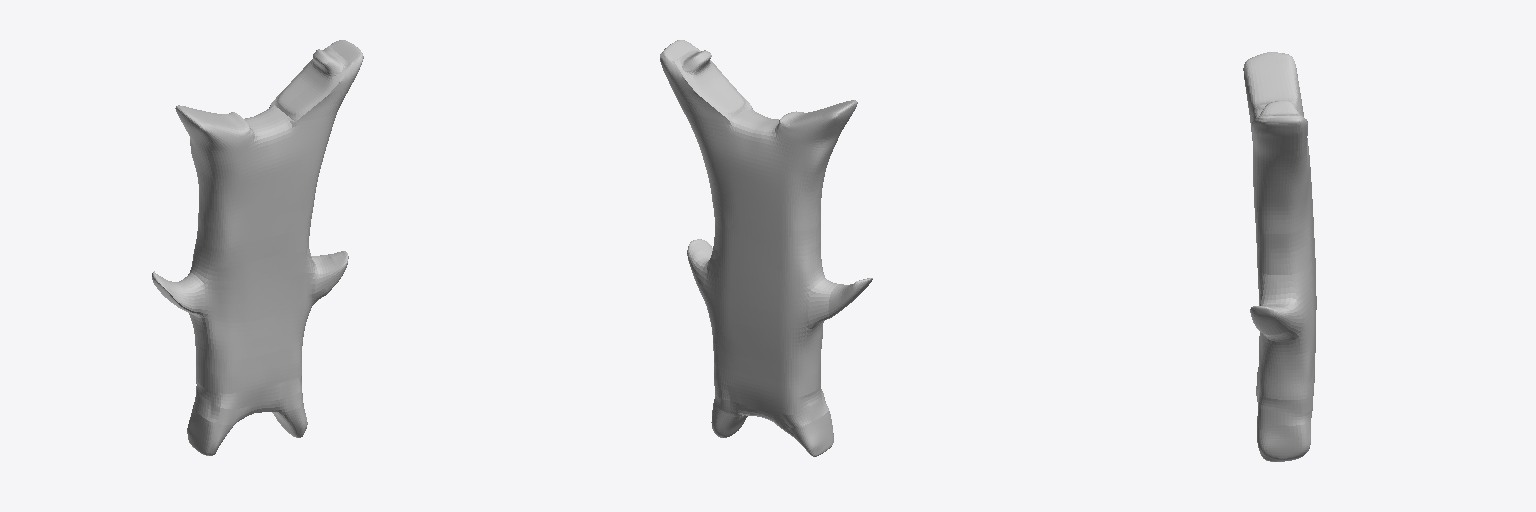
Rendered from korok11.obj.
3 views of the same model, side by side, from view 1: azimuth 30°, elevation 25°; view 2: azimuth 150°, elevation 25°; view 3: azimuth 270°, elevation 25° (orthographic).
Visible parts, largest first — view 1: Plane; view 2: Plane; view 3: Plane.
Part boxes in pixels (left/top/right/bottom): Plane: left=152, top=40, right=363, bottom=455; Plane: left=660, top=40, right=872, bottom=456; Plane: left=1243, top=52, right=1316, bottom=461.
Size of the model in its own units: 1.02 by 1.82 by 0.3221.